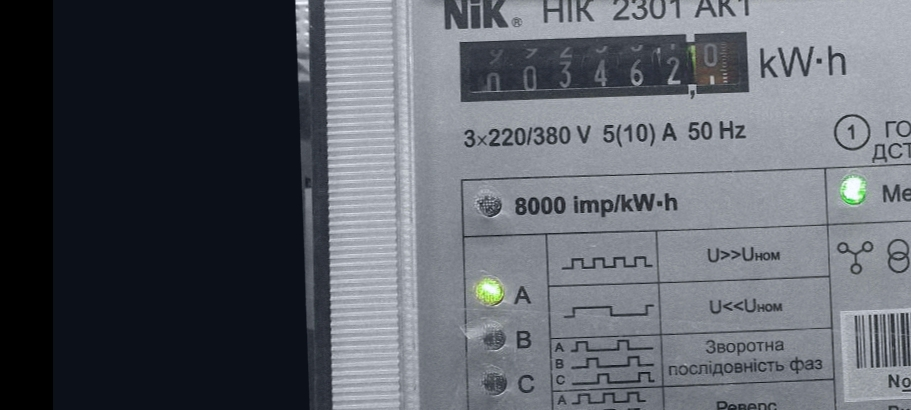0: (521, 61, 540, 90), (702, 39, 720, 68), (483, 68, 503, 92)
2: (665, 53, 684, 85)
3: (556, 57, 575, 90)
4: (593, 55, 611, 88)
6: (627, 54, 648, 89)
9: (486, 46, 506, 65)
screen: (447, 18, 762, 120)
